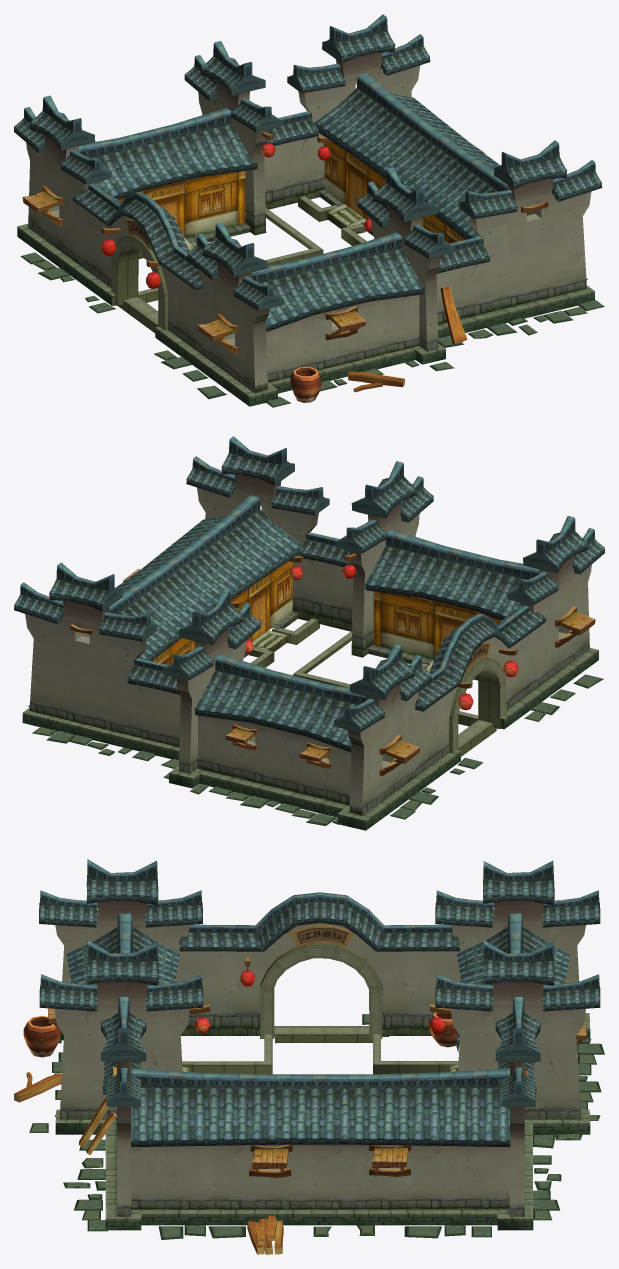
File: taoyuanzhen_siheyuan.FBX
The picture shows the model from 3 angles, top to bottom: view 1: azimuth 30°, elevation 25°; view 2: azimuth 150°, elevation 25°; view 3: azimuth 270°, elevation 25°; orthographic projection. The views are drawn at different scales.
Visible parts, largest first — view 1: siheyuan_mesh; view 2: siheyuan_mesh; view 3: siheyuan_mesh.
Part boxes in pixels (x1,y1,x2,y2): siheyuan_mesh: (14, 14, 604, 407); siheyuan_mesh: (14, 436, 604, 830); siheyuan_mesh: (14, 859, 604, 1254).
Size of the model in its own units: 2039 by 754 by 2089.
